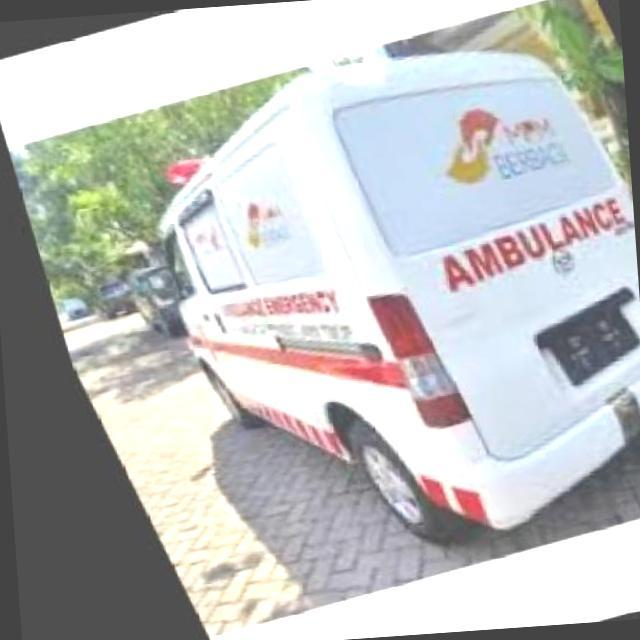emergency-vehicle: (49, 1, 640, 588)
